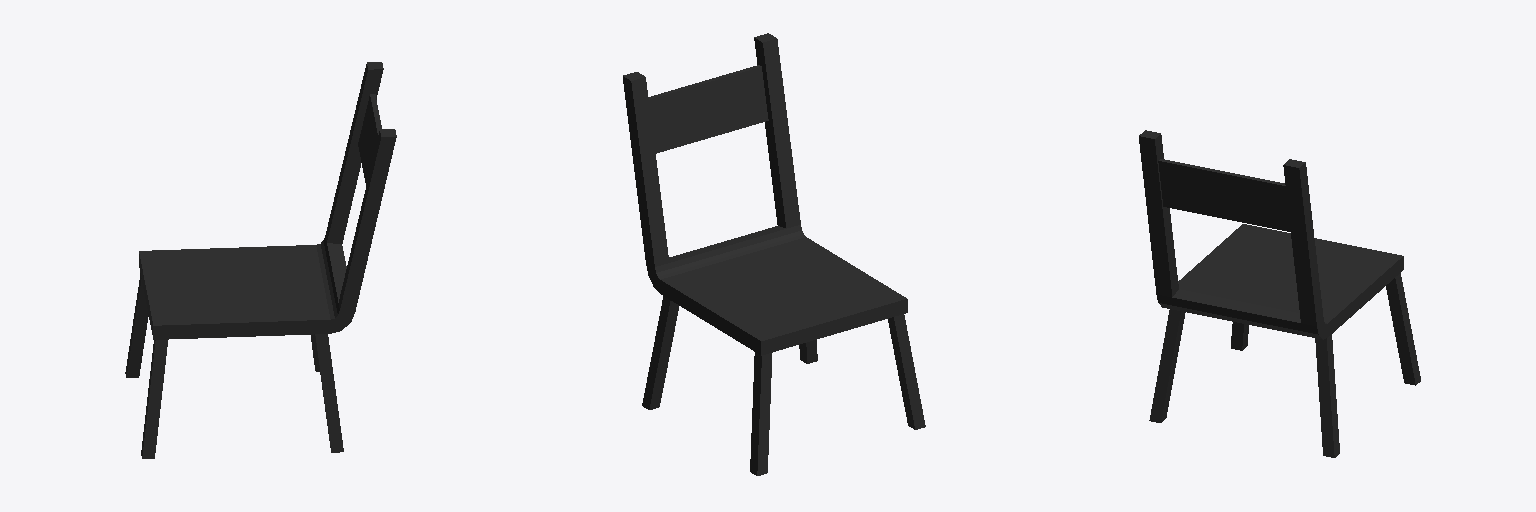
File: ChairMesh.obj
3 renders of one model, left to right at view 1: azimuth 30°, elevation 25°; view 2: azimuth 150°, elevation 25°; view 3: azimuth 270°, elevation 25°, orthographic.
Parts seen in each view (by area): view 1: Chair1; view 2: Chair1; view 3: Chair1.
Boxes of the visible parts, <box> form: Chair1: <box>125,62,396,458</box>; Chair1: <box>623,33,925,475</box>; Chair1: <box>1139,130,1420,457</box>.
Bounding box in the file's own units: 137 × 149 × 124.